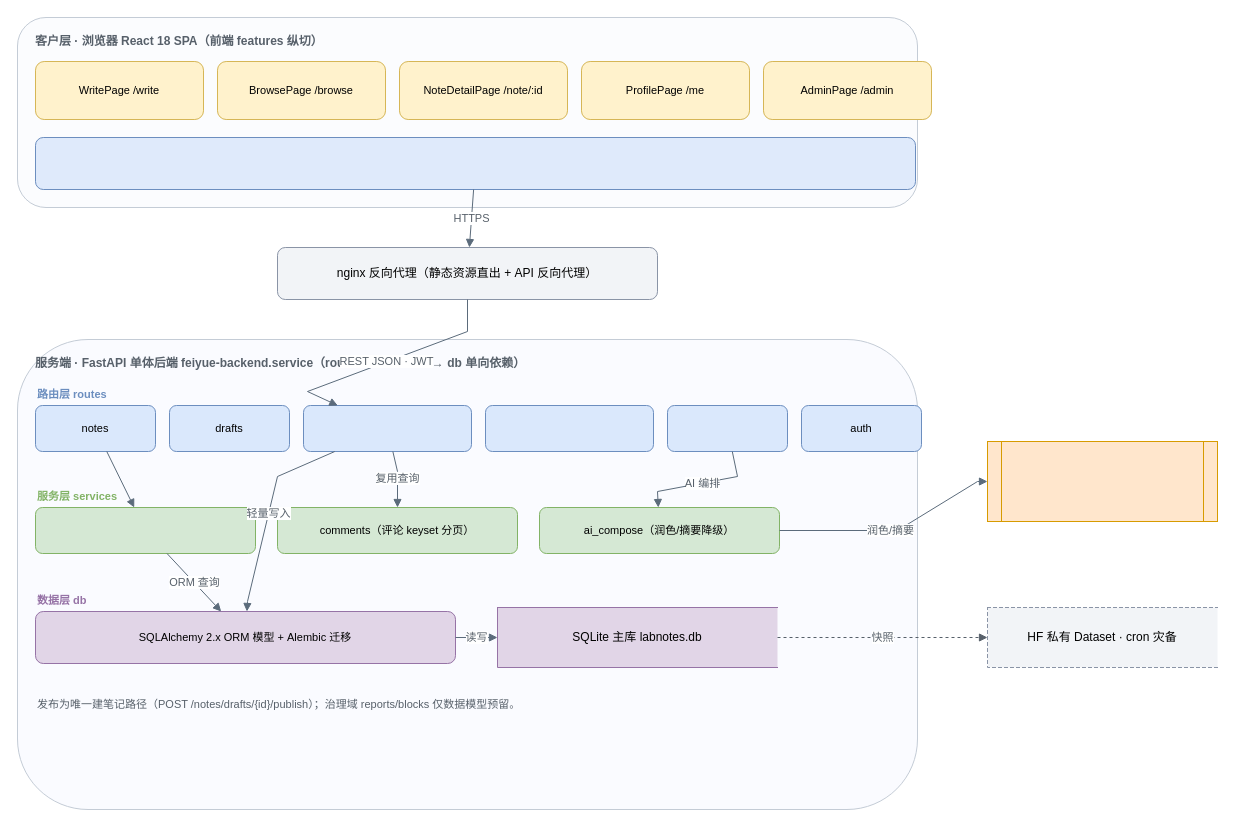
The diagram is 1235 pixels wide and 827 high, and some of its shapes have lost their labels. Each missing label, with the box of its shape:
ai: (666, 404, 788, 452)
api/client.ts · 统一请求封装（TanStack Query 缓存 · Zod 边界校验 · Bearer JWT）: (34, 136, 916, 190)
collections: (484, 404, 654, 452)
interactions: (302, 404, 472, 452)
notes（列表/详情/编辑）: (34, 506, 256, 554)
外部 AI 服务 DeepSeek · OpenAI 兼容: (986, 440, 1218, 522)
